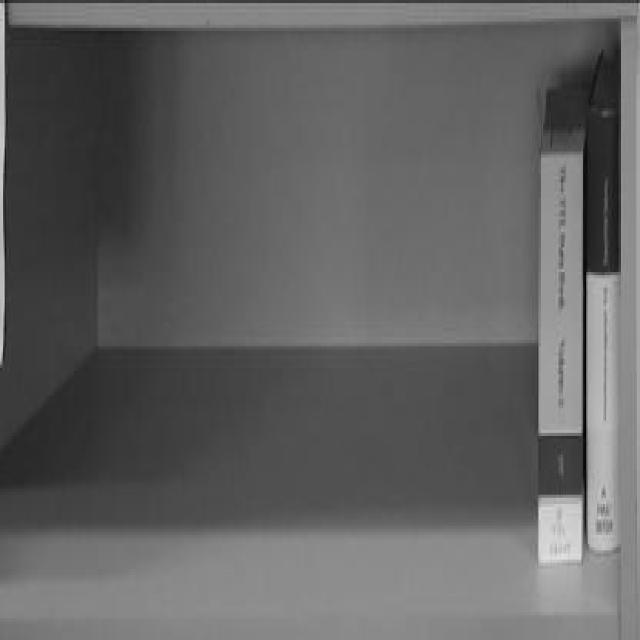book: (542, 90, 592, 558), (585, 59, 627, 562)
